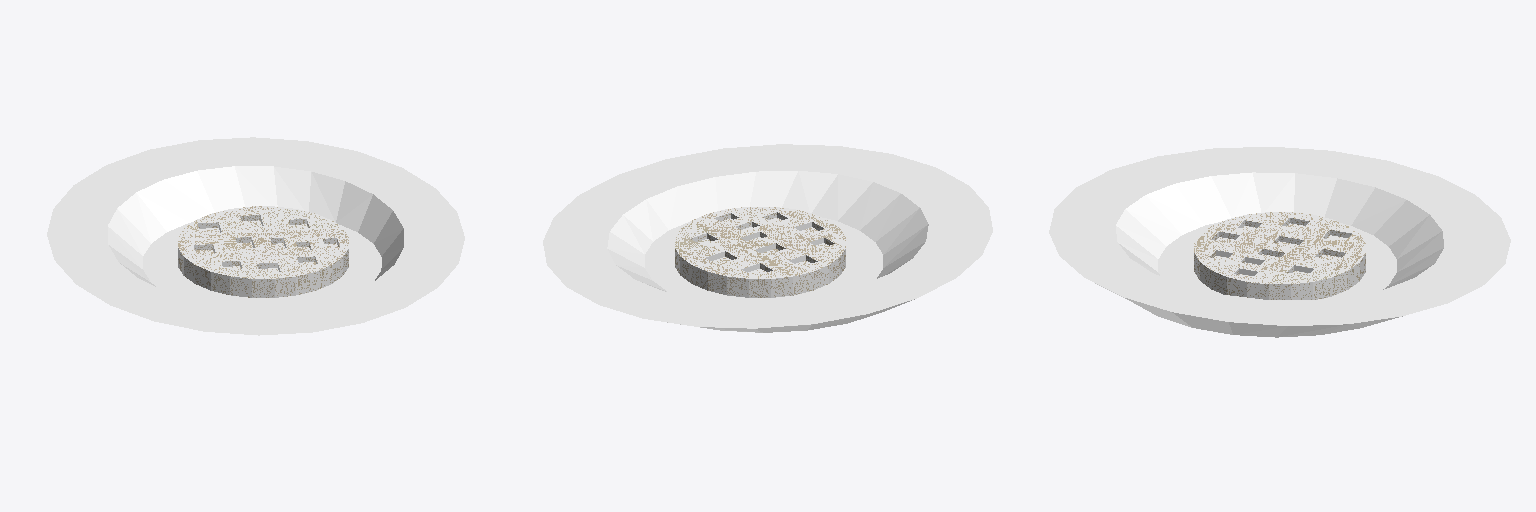
3 renders of one model, left to right at view 1: azimuth 30°, elevation 25°; view 2: azimuth 150°, elevation 25°; view 3: azimuth 270°, elevation 25°, orthographic.
Visible parts, largest first — view 1: mesh1_mesh1-geometry; view 2: mesh1_mesh1-geometry; view 3: mesh1_mesh1-geometry.
Boxes of the visible parts, <box> form: mesh1_mesh1-geometry: <box>47,137,464,335</box>; mesh1_mesh1-geometry: <box>543,144,992,332</box>; mesh1_mesh1-geometry: <box>1049,147,1510,337</box>.
Size of the model in its own units: 0.6755 by 0.0686 by 0.7341.
Materials: 4 (1 with a texture image).